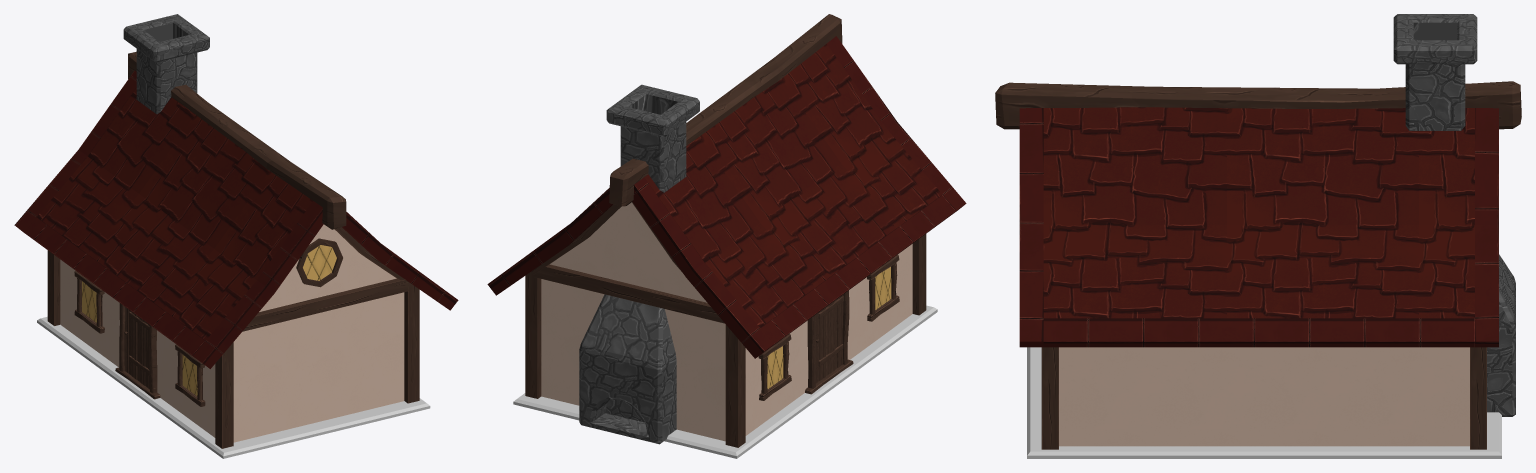
Rendered from HouseG.fbx.
The picture shows the model from 3 angles, left to right: view 1: azimuth 30°, elevation 25°; view 2: azimuth 150°, elevation 25°; view 3: azimuth 270°, elevation 25°; orthographic projection. The views are drawn at different scales.
Visible parts, largest first — view 1: House.033; view 2: House.033; view 3: House.033.
Boxes of the visible parts, x1=… form: House.033: x1=14, y1=14, x2=458, y2=458; House.033: x1=487, y1=14, x2=966, y2=458; House.033: x1=995, y1=14, x2=1521, y2=458.
Bounding box in the file's own units: 8.83 × 9.39 × 12.3.
